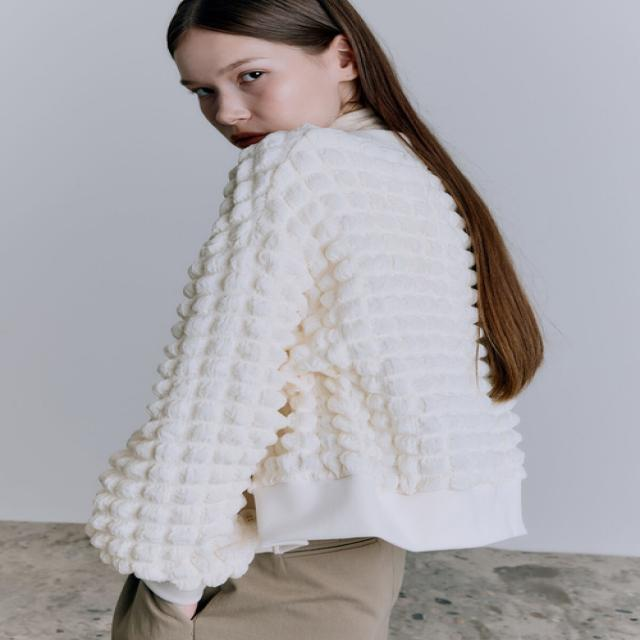dress: (96, 125, 516, 587)
